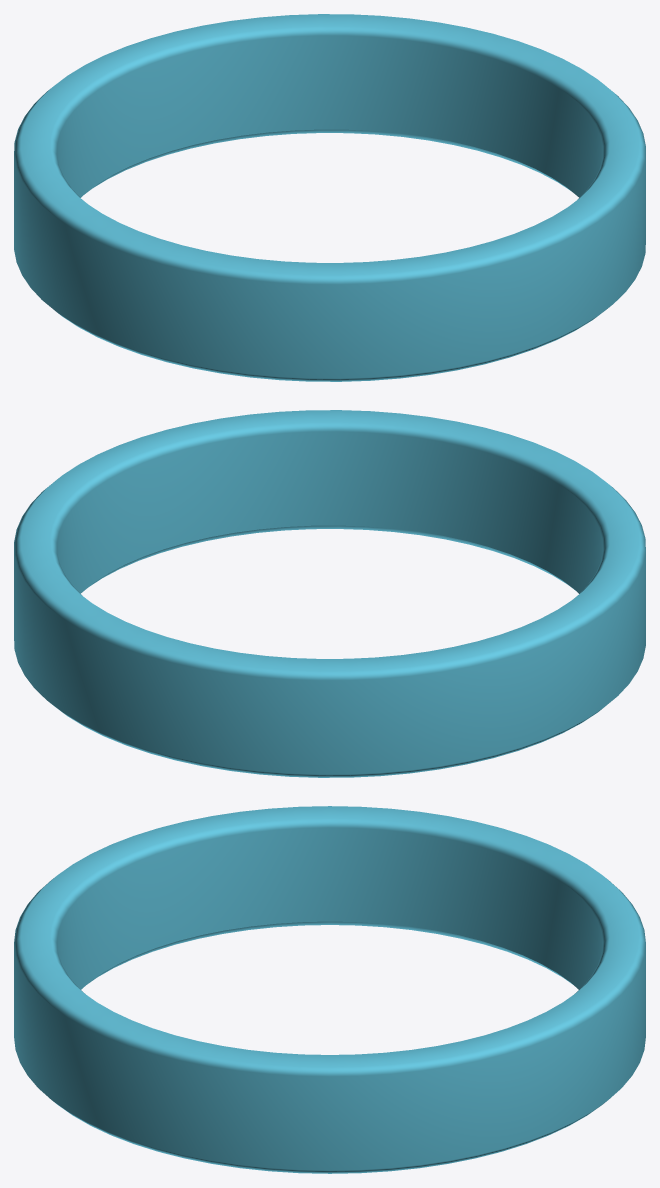
3 views of the same model, one above another, from view 1: azimuth 30°, elevation 25°; view 2: azimuth 150°, elevation 25°; view 3: azimuth 270°, elevation 25° (orthographic).
Parts seen in each view (by area): view 1: seal_body; view 2: seal_body; view 3: seal_body.
Part boxes in pixels (bbox=[...]): seal_body: bbox=[14, 14, 645, 381]; seal_body: bbox=[14, 410, 645, 777]; seal_body: bbox=[14, 806, 645, 1173].
Size of the model in its own units: 0.0698 by 0.013 by 0.0698.
